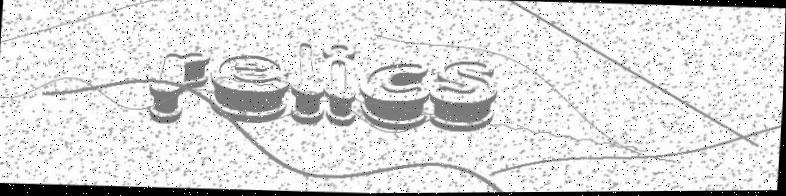c: (355, 61, 432, 132)
e: (207, 52, 292, 124)
i: (317, 42, 362, 128)
l: (288, 42, 328, 127)
r: (147, 49, 210, 126)
s: (429, 60, 501, 133)
